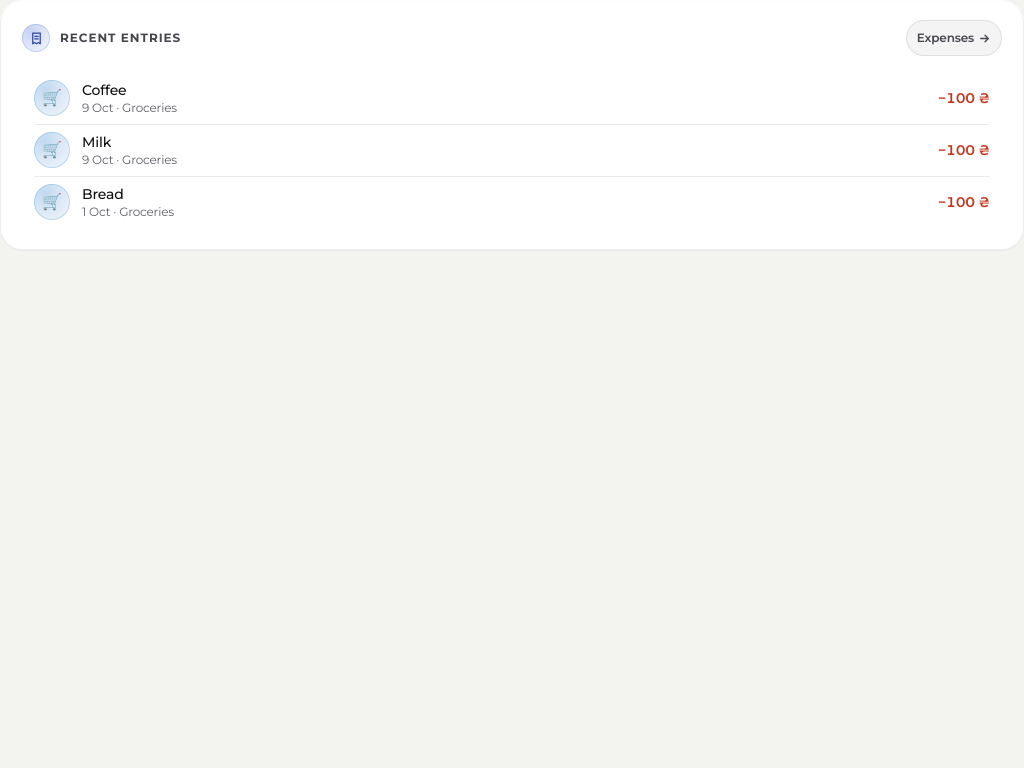
Test: RecentCard › lists the entries logged up to today, the newest first, and opens one to fix it
Expected: the text "9 Oct · Groceries" is shown 2 times, [82, 100, 177, 115]; [82, 152, 177, 167]
Expected: the text "Mono Black" is not shown
Click the button "🛒 Milk 9 Oct · Groceries −100 ₴" at (52, 150), box [22, 124, 1002, 176]
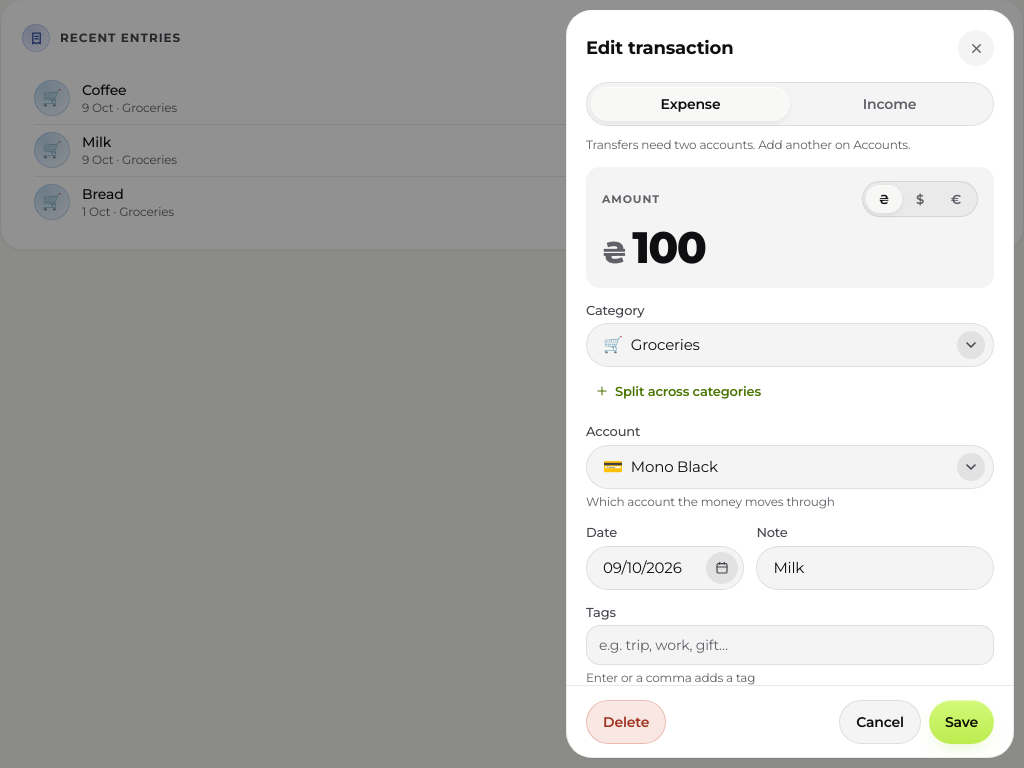
Expected: the field showing "Milk" is shown, [756, 546, 994, 590]
Click the button "Cancel" at (880, 722), box [839, 700, 921, 744]
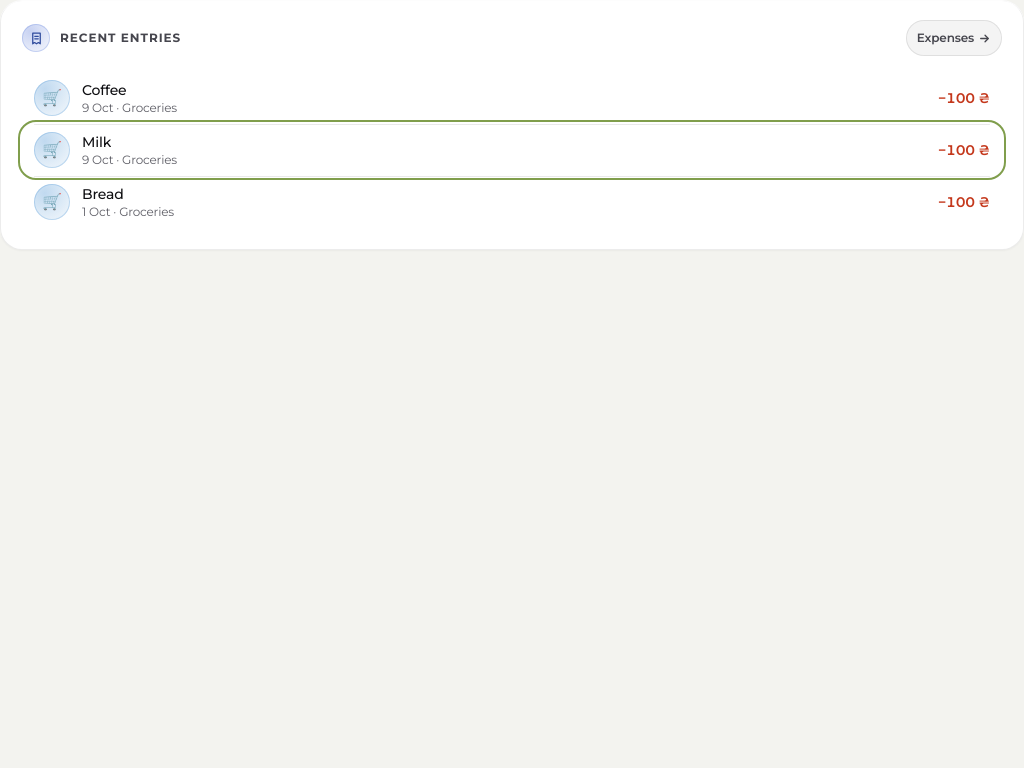
Expected: the dialog is gone
